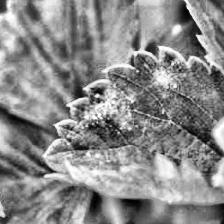Powdery Mildew Leaf: (41, 46, 224, 205)
